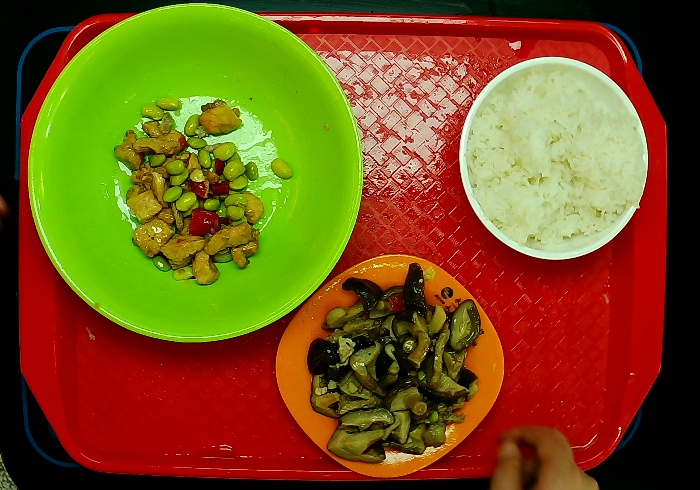YKMZ-Fan_Wan: (439, 44, 654, 275)
YKMZ-Ju_Se_Fang_Die: (267, 249, 513, 488)
YKMZ-Lv_Se_Tang_Wan: (16, 1, 366, 343)
